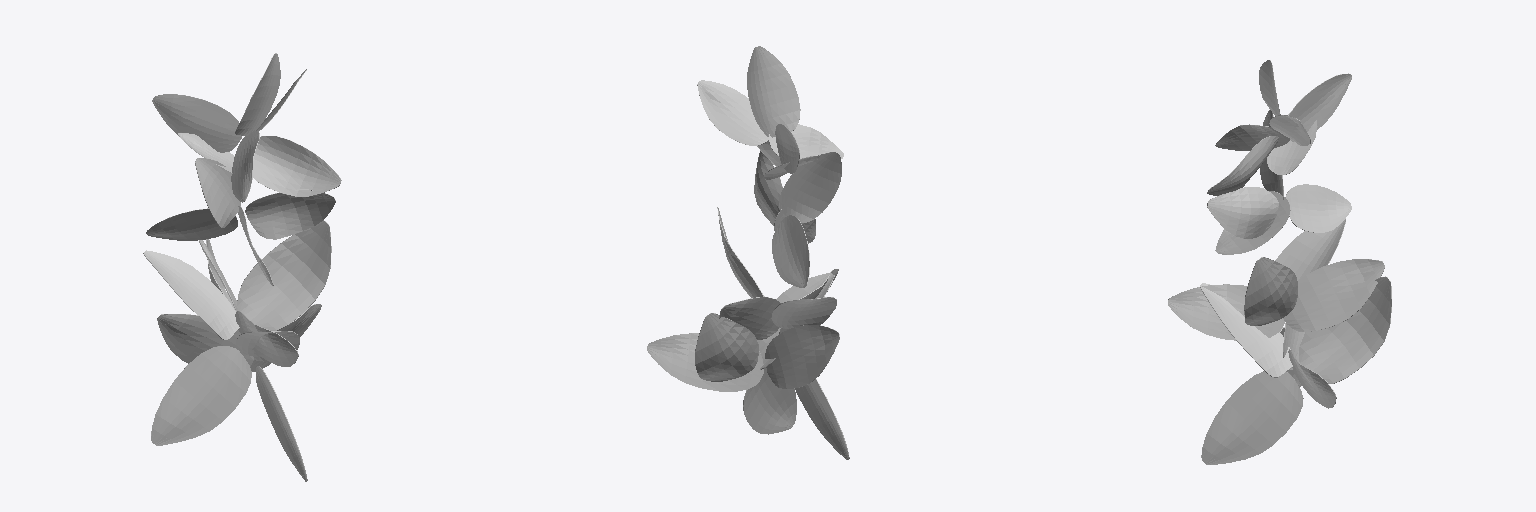
Rendered from SetA_PottedPlant_Style_02_Leaves.obj.
3 views of the same model, side by side, from view 1: azimuth 30°, elevation 25°; view 2: azimuth 150°, elevation 25°; view 3: azimuth 270°, elevation 25° (orthographic).
Parts seen in each view (by area): view 1: SetA_PottedPlant_Style_02_Leaves; view 2: SetA_PottedPlant_Style_02_Leaves; view 3: SetA_PottedPlant_Style_02_Leaves.
Boxes of the visible parts, box(x1,y1,x2,y2) form: SetA_PottedPlant_Style_02_Leaves: box(143, 53, 341, 481); SetA_PottedPlant_Style_02_Leaves: box(647, 46, 849, 459); SetA_PottedPlant_Style_02_Leaves: box(1168, 60, 1391, 464).
Size of the model in its own units: 0.3068 by 0.6375 by 0.3198.